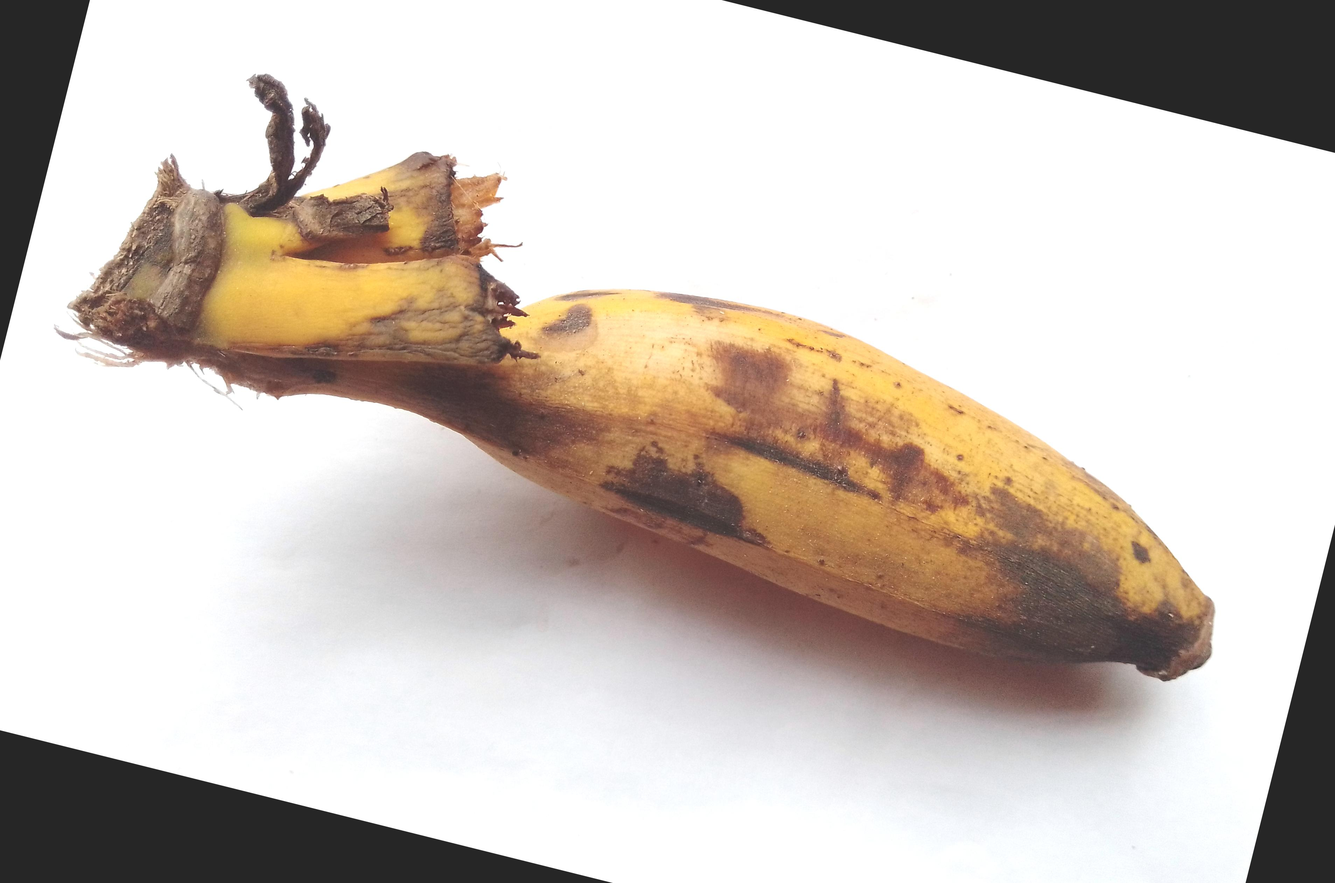Banana Ripe: (515, 44, 1335, 748)
